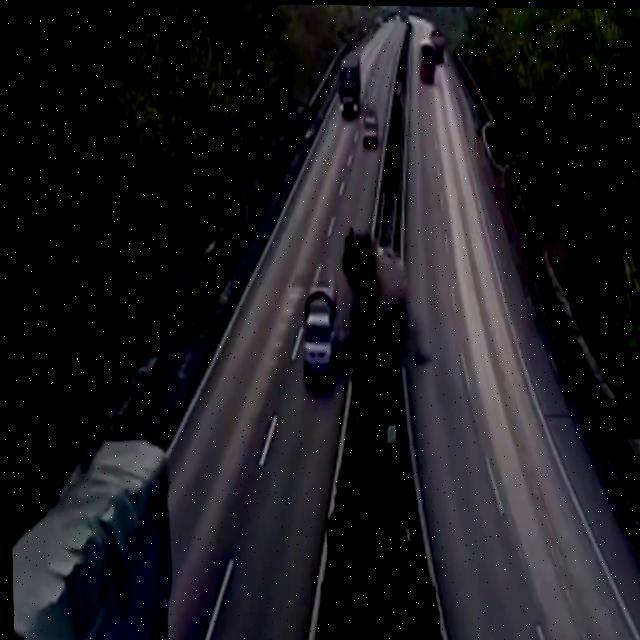multiple_accident: (282, 215, 430, 442)
normal: (320, 28, 397, 163)
